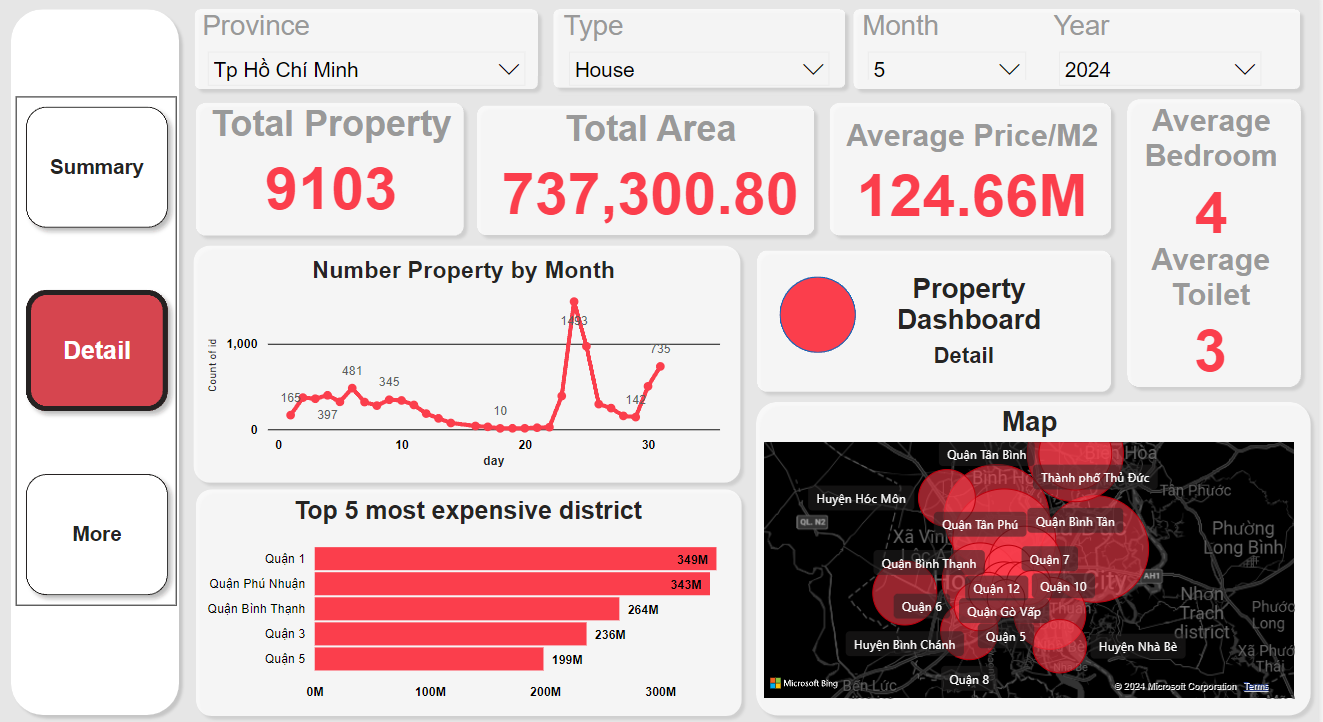

This screenshot's page, from the dashboard's own definition file:
{"tool":"powerbi","page":{"name":"Detail","canvas":[1280,720],"ordinal":1},"visuals":[{"type":"shape","box":[11,12.3,177,695.7],"z":0},{"type":"shape","box":[189.4,102.9,273.1,142.7],"z":1000},{"type":"card","title":"Total Property","fields":{"Values":["CountNonNull(gold_factprice.id)"]},"box":[197.6,111.1,259.3,115.3],"z":2000},{"type":"shape","box":[533.8,12.3,296.4,90.6],"z":3000},{"type":"shape","box":[461.2,105,340,140],"z":4000},{"type":"shape","box":[801.2,102.5,286.2,142.5],"z":5000},{"type":"shape","box":[187.5,240,542.5,243.8],"z":6000},{"type":"shape","box":[730,391.2,550,317.5],"z":7000},{"type":"shape","box":[1087.5,98.8,182.5,292.5],"z":8000},{"type":"shape","box":[188.8,475,541.2,233.8],"z":9000},{"type":"lineChart","title":"Number Property by Month","fields":{"Y":["CountNonNull(gold_factprice.id)"],"Category":["gold_dimdate.day"]},"box":[202.5,257.5,505,208.8],"z":10000},{"type":"map","title":"Map","fields":{"Category":["gold_dimlocation.district"],"Size":["CountNonNull(gold_factprice.id)"]},"box":[740,402.5,521.2,286.2],"z":11000},{"type":"slicer","title":"Type","fields":{"Values":["gold_dimproperty.type"]},"box":[546.1,20.6,271.7,82.3],"z":12000},{"type":"barChart","title":"Top 5 most expensive district","fields":{"Category":["gold_dimlocation.district"],"Y":["Avg(gold_factprice.price_per_square)"]},"box":[196.2,490,525,205],"z":13000},{"type":"shape","box":[823.3,12.3,446,91.9],"z":14000},{"type":"slicer","title":"Month","fields":{"Values":["gold_dimdate.month"]},"box":[834.3,20.6,172.9,67.2],"z":15000},{"type":"slicer","title":"Year","fields":{"Values":["gold_dimdate.year"]},"box":[1019.6,20.6,215.4,82.3],"z":16000},{"type":"shape","box":[188,12.3,345.8,91.9],"z":17000},{"type":"slicer","title":"Province","fields":{"Values":["gold_dimlocation.province"]},"box":[197.6,20.6,326.6,82.3],"z":18000},{"type":"card","title":"Total Area","fields":{"Values":["Sum(gold_factprice.area_m2)"]},"box":[468.8,116.2,332.5,115],"z":19000},{"type":"card","title":"Average Price/M2","fields":{"Values":["Avg(gold_factprice.price_per_square)"]},"box":[817.5,125,256.2,106.2],"z":20000},{"type":"card","title":"Average Toilet","fields":{"Values":["Avg(gold_factprice.toilet)"]},"box":[1072.5,245,207.5,133.8],"z":21000},{"type":"card","title":"Average Bedroom","fields":{"Values":["Avg(gold_factprice.bedroom)"]},"box":[1073.8,111.2,206.2,133.8],"z":22000},{"type":"shape","box":[731.2,245,356.2,151.2],"z":23000},{"type":"shape","box":[760,277.5,73.8,73.8],"z":24000},{"type":"textbox","box":[817.5,268.8,250,92.5],"z":25000},{"type":"textbox","box":[787.5,336.2,300,42.5],"z":26000},{"type":"pageNavigator","box":[22.9,103.7,155.6,490.9],"z":26001}]}

Visuals, with their boxes on the page's 1280x720 design canvas (x1, y1, x2, y2). These are canvas units, not pixel positions in the 1323x722 screenshot, which may show the page scaled, cropped or inside an application window:
shape: locate(11, 12, 188, 708)
shape: locate(189, 103, 462, 246)
"Total Property" card: locate(198, 111, 457, 226)
shape: locate(534, 12, 830, 103)
shape: locate(461, 105, 801, 245)
shape: locate(801, 102, 1087, 245)
shape: locate(188, 240, 730, 484)
shape: locate(730, 391, 1280, 709)
shape: locate(1088, 99, 1270, 391)
shape: locate(189, 475, 730, 709)
"Number Property by Month" lineChart: locate(202, 258, 708, 466)
"Map" map: locate(740, 402, 1261, 689)
"Type" slicer: locate(546, 21, 818, 103)
"Top 5 most expensive district" barChart: locate(196, 490, 721, 695)
shape: locate(823, 12, 1269, 104)
"Month" slicer: locate(834, 21, 1007, 88)
"Year" slicer: locate(1020, 21, 1235, 103)
shape: locate(188, 12, 534, 104)
"Province" slicer: locate(198, 21, 524, 103)
"Total Area" card: locate(469, 116, 801, 231)
"Average Price/M2" card: locate(818, 125, 1074, 231)
"Average Toilet" card: locate(1072, 245, 1280, 379)
"Average Bedroom" card: locate(1074, 111, 1280, 245)
shape: locate(731, 245, 1087, 396)
shape: locate(760, 278, 834, 351)
textbox: locate(818, 269, 1068, 361)
textbox: locate(788, 336, 1088, 379)
pageNavigator: locate(23, 104, 178, 595)
